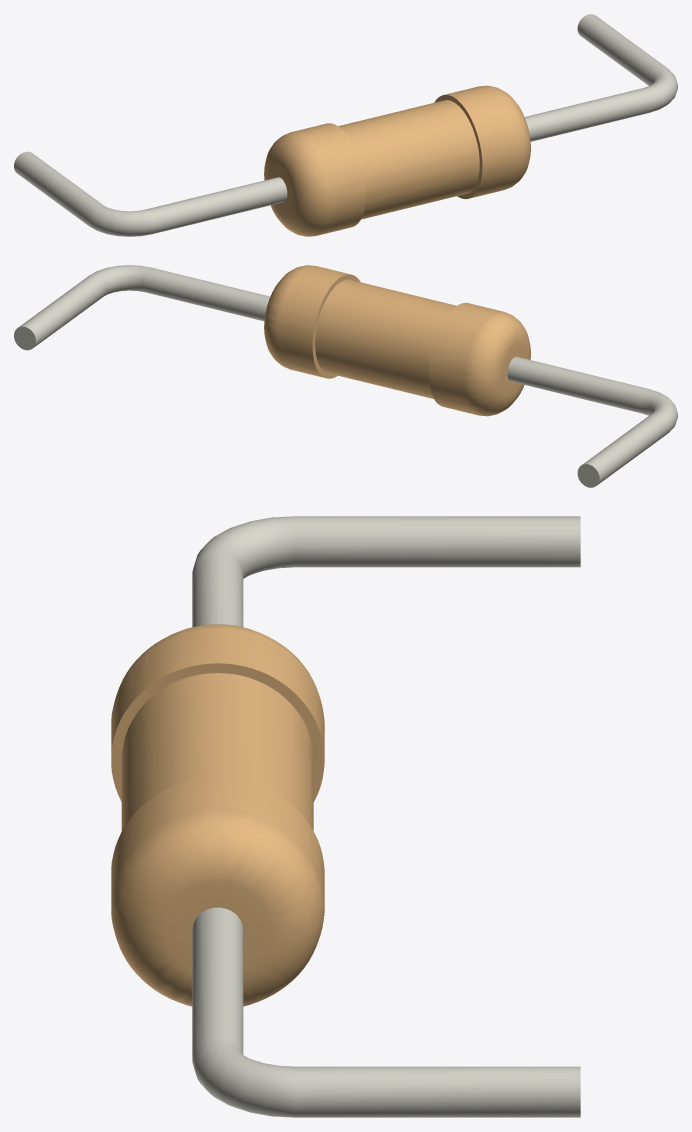
Rendered from r-axial-din0207-l6.3-d2.5-p15.24-h.glb.
3 views of the same model, one above another, from view 1: azimuth 30°, elevation 25°; view 2: azimuth 150°, elevation 25°; view 3: azimuth 270°, elevation 25° (orthographic). The views are drawn at different scales.
Parts seen in each view (by area): view 1: RES-THT-01, PIN-01; view 2: RES-THT-01, PIN-01; view 3: RES-THT-01, PIN-01.
Part boxes in pixels (x1,y1,x2,y2): RES-THT-01: [264, 85, 530, 236]; PIN-01: [14, 14, 677, 236]; RES-THT-01: [264, 265, 530, 416]; PIN-01: [14, 265, 677, 487]; RES-THT-01: [111, 624, 324, 1006]; PIN-01: [192, 516, 580, 1117].
Size of the model in its own units: 15.83 by 2.5 by 5.5.
